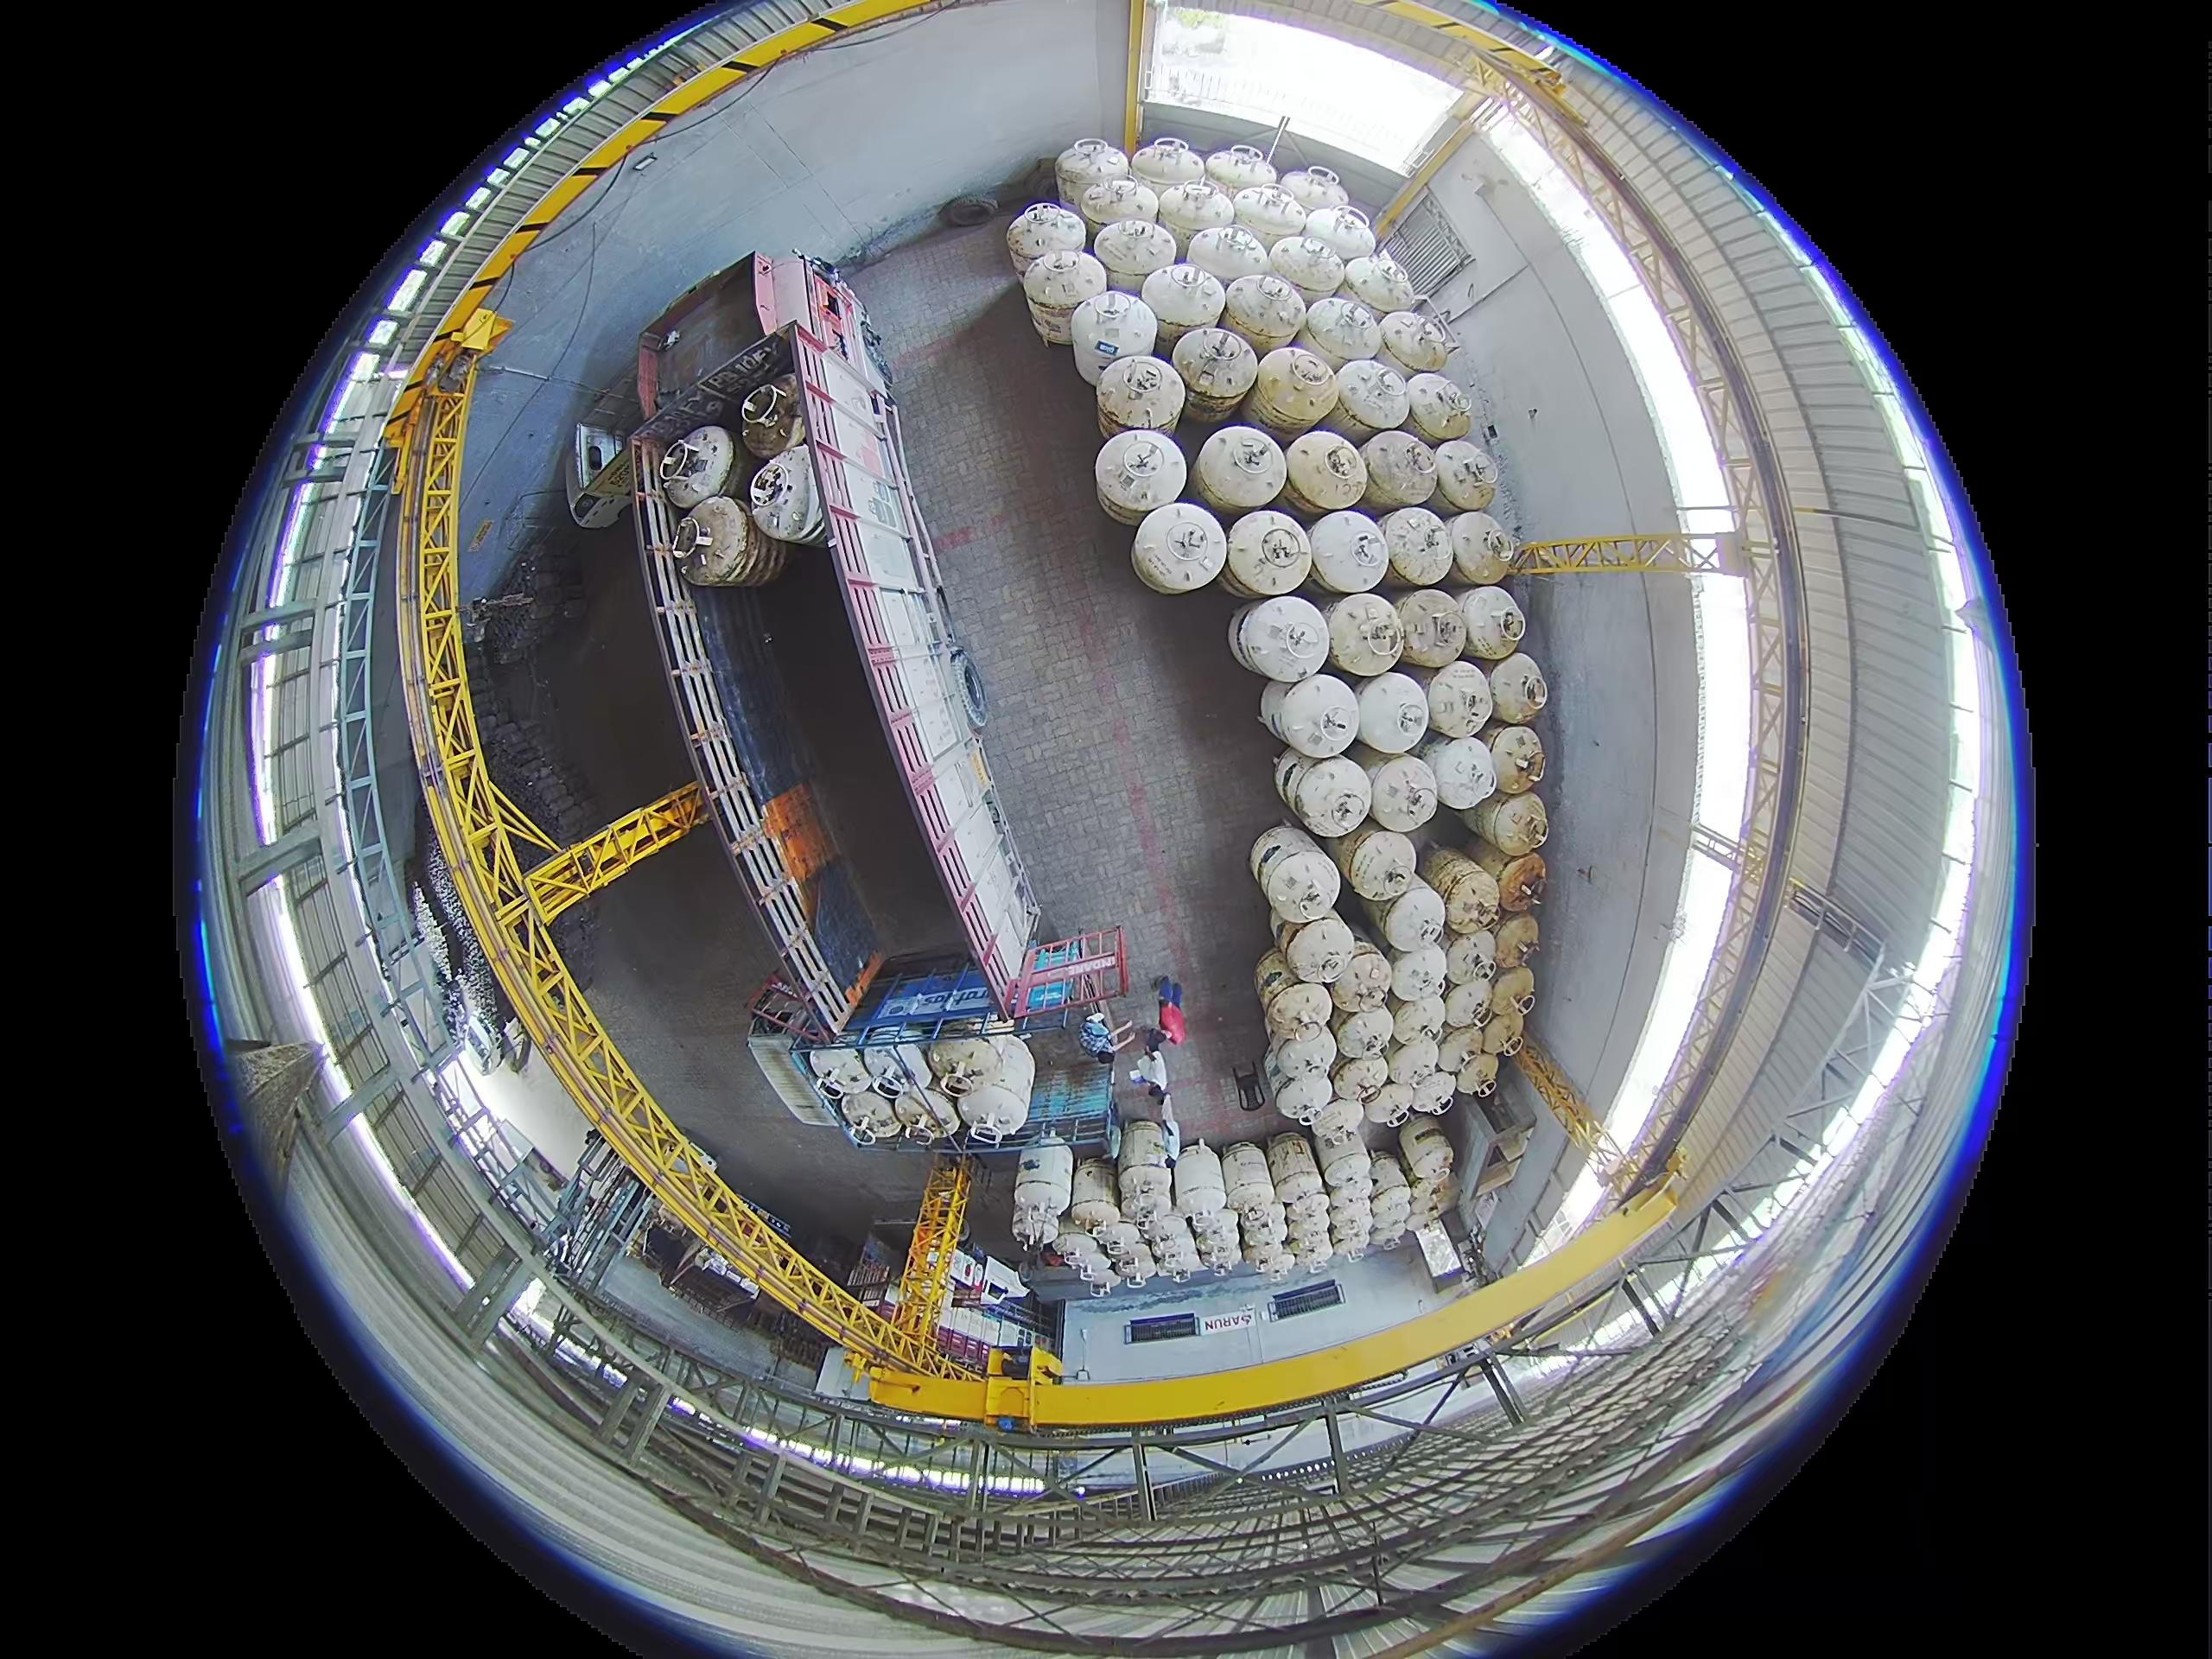cylinder: (1205, 1166, 1358, 1316), (673, 498, 793, 587), (1131, 501, 1229, 594), (1095, 430, 1186, 528), (1195, 424, 1287, 517), (1270, 671, 1363, 760), (1170, 326, 1258, 420), (1251, 346, 1341, 438), (1017, 249, 1099, 345), (1095, 354, 1182, 443), (1225, 510, 1313, 597), (750, 445, 827, 544), (1070, 289, 1153, 381), (1284, 430, 1369, 518), (1141, 261, 1227, 346), (1306, 509, 1391, 595), (1221, 271, 1308, 353), (1285, 754, 1374, 835), (1323, 594, 1406, 677), (1335, 822, 1419, 902), (659, 427, 737, 510), (1332, 357, 1411, 436), (1362, 429, 1440, 510), (1355, 673, 1432, 754), (1302, 295, 1383, 371), (1464, 838, 1543, 915), (1187, 221, 1274, 291), (1422, 734, 1498, 813), (1382, 506, 1457, 586), (1394, 588, 1469, 667), (1423, 660, 1496, 741), (1420, 849, 1494, 927), (1283, 916, 1361, 990), (1155, 179, 1234, 252), (1365, 753, 1440, 829), (1465, 786, 1547, 855), (1094, 216, 1174, 284), (1056, 137, 1130, 211), (1457, 585, 1529, 659), (741, 378, 806, 458), (1449, 510, 1519, 585), (1231, 184, 1309, 251), (1379, 879, 1448, 954), (1007, 202, 1083, 270), (1268, 232, 1344, 297), (1402, 371, 1471, 444), (1079, 176, 1154, 243), (1301, 204, 1377, 270), (1129, 137, 1205, 203), (1433, 439, 1501, 512), (1378, 310, 1450, 378), (1341, 252, 1417, 315), (1482, 724, 1547, 798), (1482, 652, 1547, 722), (1329, 949, 1395, 1014), (1387, 945, 1450, 1014), (1205, 143, 1279, 199), (1442, 929, 1502, 995), (1384, 1038, 1444, 1101), (1332, 1007, 1395, 1065), (1280, 166, 1350, 216), (1397, 1118, 1452, 1180), (1332, 1053, 1390, 1110), (1484, 964, 1535, 1027), (1440, 977, 1496, 1033), (1310, 1096, 1366, 1151), (1491, 912, 1541, 972), (1311, 1128, 1365, 1183), (1477, 1007, 1530, 1063), (1325, 1193, 1373, 1254), (1365, 1080, 1420, 1130), (1436, 1024, 1486, 1075), (1367, 1185, 1413, 1238), (1473, 1150, 1521, 1200), (1365, 1154, 1410, 1205), (1456, 1051, 1499, 1098), (1406, 1191, 1446, 1231), (1493, 1125, 1533, 1165)
truck: (631, 255, 1122, 1078), (671, 993, 1226, 1155), (546, 401, 667, 488)
